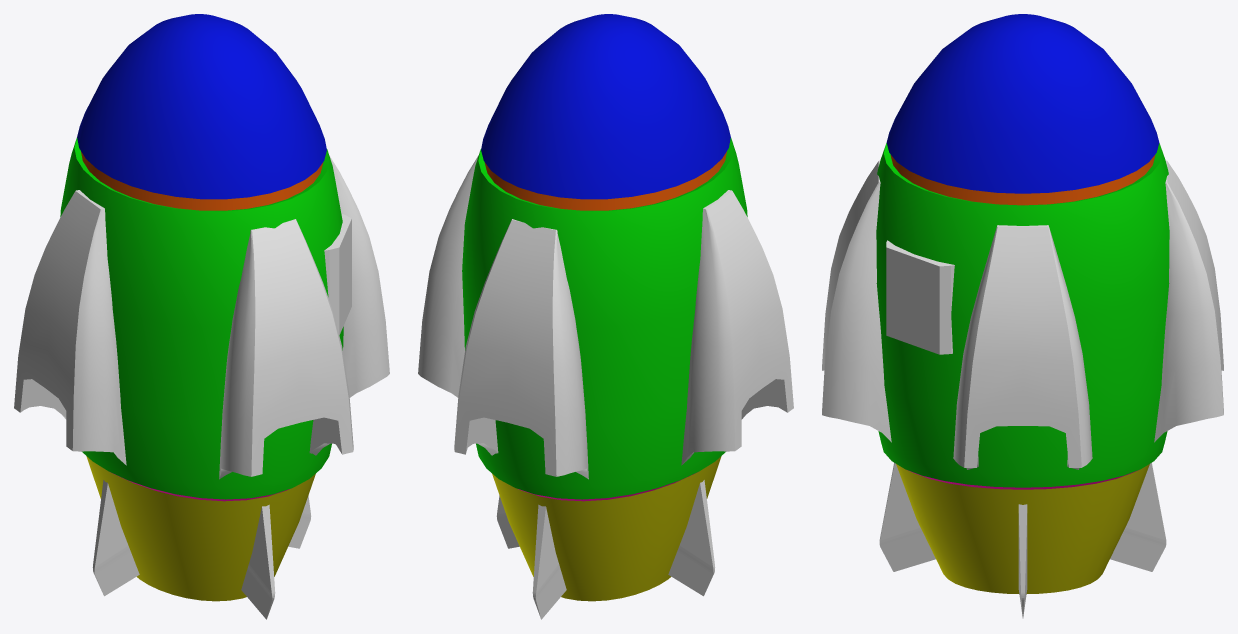
File: SpacePod.fbx
The picture shows the model from 3 angles, left to right: view 1: azimuth 30°, elevation 25°; view 2: azimuth 150°, elevation 25°; view 3: azimuth 270°, elevation 25°; orthographic projection.
Parts seen in each view (by area): view 1: Body, Thrusters, Lower Wings, Cube.001; view 2: Body, Thrusters, Lower Wings; view 3: Body, Thrusters, Lower Wings, Cube.001.
Boxes of the visible parts, x1,y1,x2,y2 form: Body: [60, 14, 343, 601]; Thrusters: [14, 155, 389, 479]; Lower Wings: [92, 480, 311, 619]; Cube.001: [324, 213, 351, 335]; Body: [462, 14, 747, 601]; Thrusters: [418, 155, 793, 479]; Lower Wings: [496, 480, 715, 619]; Body: [876, 14, 1169, 593]; Thrusters: [822, 160, 1223, 469]; Lower Wings: [879, 462, 1166, 618]; Cube.001: [886, 240, 954, 354].
Size of the model in its own units: 143 by 237 by 157.
